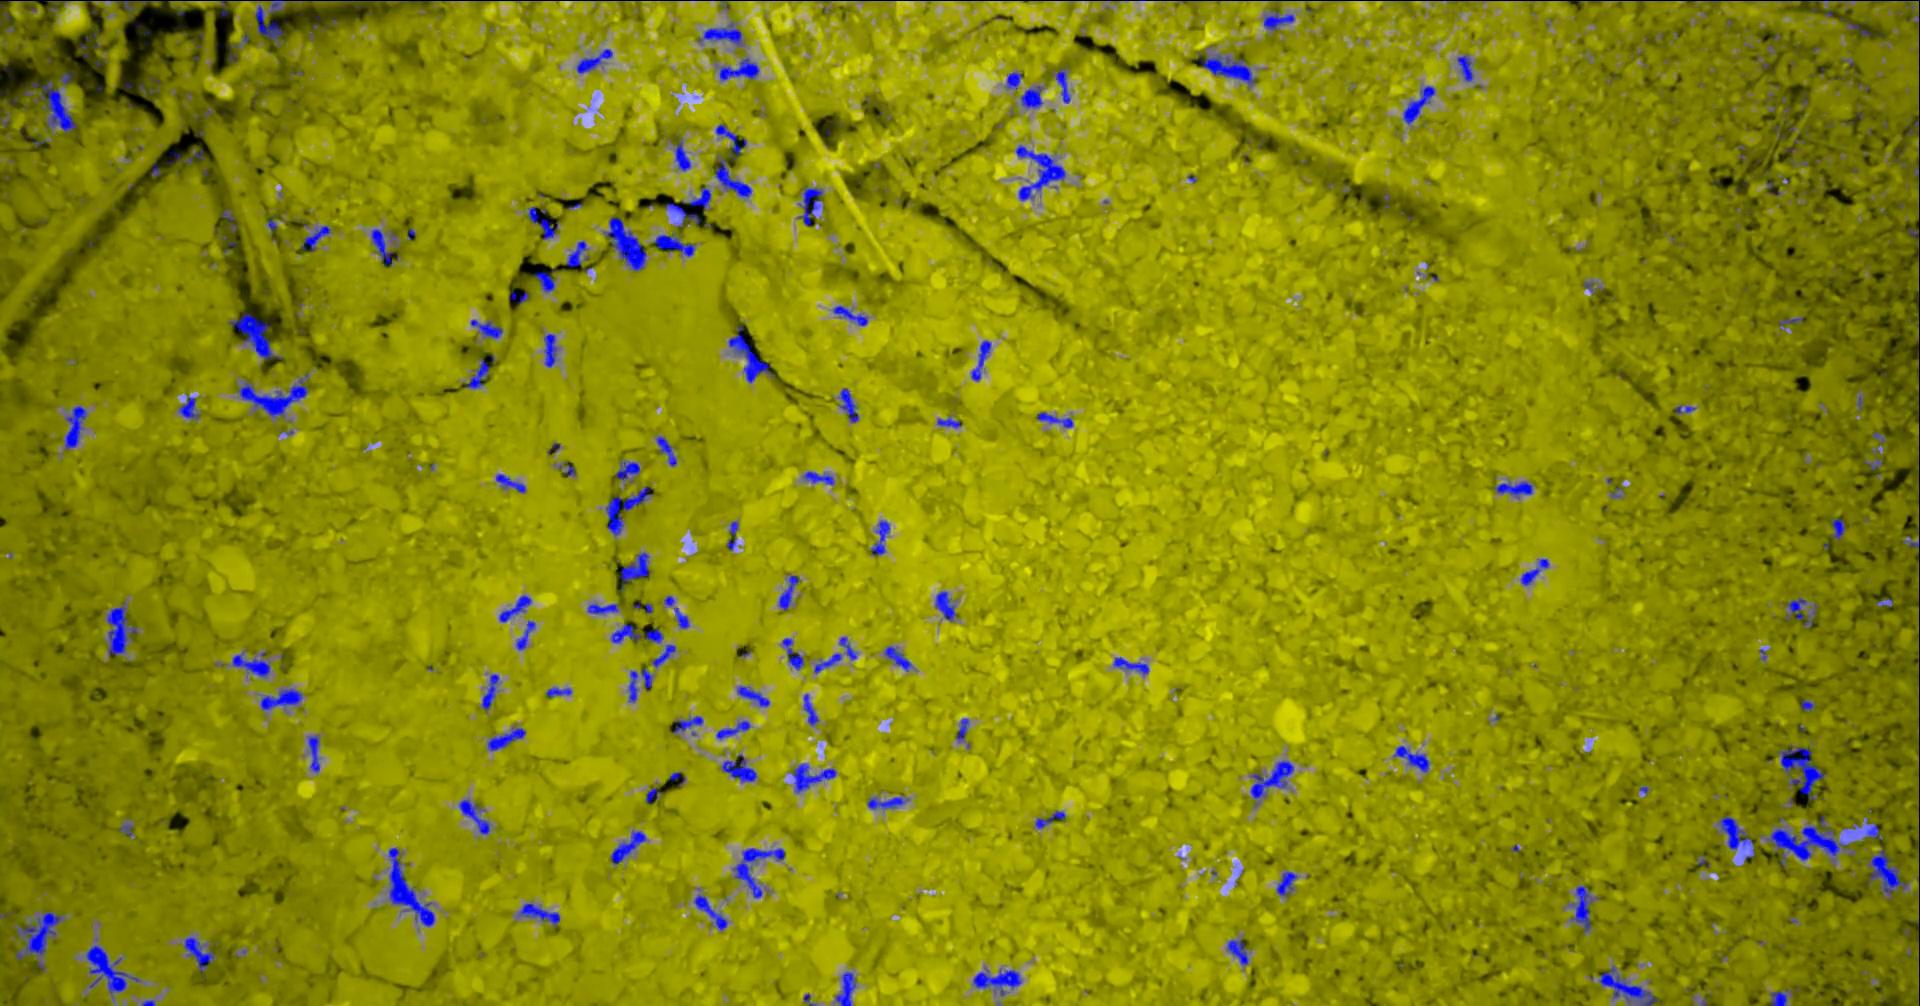ant: (85, 944, 138, 998), (236, 377, 309, 417), (1015, 144, 1065, 199), (731, 847, 783, 898), (1778, 744, 1825, 799), (728, 325, 771, 382), (229, 312, 281, 359), (30, 80, 76, 133), (1597, 965, 1658, 1005), (603, 216, 646, 271), (15, 909, 62, 959), (604, 486, 651, 535), (1865, 848, 1907, 899), (1250, 760, 1293, 805), (1197, 53, 1256, 85), (665, 185, 710, 225), (105, 601, 137, 655), (714, 155, 750, 198), (1718, 815, 1754, 860), (1567, 885, 1600, 932), (791, 763, 836, 793), (610, 829, 646, 864), (254, 4, 283, 47), (971, 969, 1021, 995), (1402, 85, 1434, 124), (693, 894, 728, 929), (183, 936, 215, 972), (618, 553, 649, 589), (715, 123, 745, 159), (458, 799, 489, 835), (370, 227, 397, 265), (697, 22, 742, 44), (653, 232, 695, 257), (721, 753, 756, 782), (63, 405, 86, 448), (527, 206, 557, 238), (1785, 597, 1817, 627), (231, 652, 269, 677), (517, 903, 559, 926), (1393, 746, 1429, 772), (719, 57, 759, 80), (498, 594, 531, 622), (797, 187, 822, 225), (627, 667, 653, 702), (577, 48, 612, 72), (260, 688, 302, 709), (488, 727, 524, 749), (1520, 558, 1549, 586), (300, 225, 330, 251), (970, 340, 990, 380), (463, 358, 490, 387), (116, 0, 163, 17), (777, 575, 799, 610), (832, 305, 867, 325), (737, 685, 770, 706), (883, 645, 910, 671), (838, 387, 858, 422), (781, 638, 803, 669), (870, 520, 889, 555), (1112, 655, 1148, 674), (715, 720, 750, 739), (1495, 480, 1531, 498), (481, 673, 499, 710), (836, 970, 855, 1005), (1263, 10, 1294, 30), (867, 794, 908, 809), (269, 0, 317, 13), (1225, 939, 1248, 965), (470, 319, 502, 338), (935, 591, 955, 620), (657, 436, 676, 466), (610, 622, 640, 641), (813, 653, 841, 673), (672, 715, 703, 733), (1055, 66, 1070, 103), (495, 473, 524, 492), (516, 620, 535, 649), (651, 644, 676, 667), (178, 394, 199, 419), (566, 240, 587, 267), (1036, 412, 1072, 427), (1035, 810, 1065, 828), (1020, 86, 1043, 108), (1276, 871, 1297, 895), (674, 138, 690, 170), (803, 694, 818, 725), (615, 460, 639, 479), (1457, 55, 1473, 81), (535, 269, 555, 291), (543, 333, 556, 367), (307, 735, 319, 772), (838, 636, 856, 659), (1864, 817, 1882, 840), (803, 471, 834, 484), (334, 0, 386, 8), (221, 208, 236, 232), (138, 77, 159, 95), (1845, 22, 1870, 36), (1769, 989, 1792, 1005), (673, 607, 690, 627), (726, 521, 738, 550), (1778, 316, 1803, 329), (587, 603, 617, 614), (545, 687, 571, 699), (1831, 518, 1845, 540), (1902, 535, 1919, 553), (955, 718, 968, 741), (184, 149, 203, 163), (936, 417, 961, 427), (1006, 72, 1021, 89), (668, 771, 684, 786), (645, 627, 663, 641), (1907, 114, 1919, 136), (509, 291, 528, 304), (559, 461, 575, 475), (645, 788, 662, 801), (1864, 457, 1882, 469), (1675, 404, 1695, 413), (1801, 699, 1815, 711), (60, 71, 72, 84), (119, 823, 132, 835), (1876, 598, 1892, 606), (1917, 448, 1919, 506)
